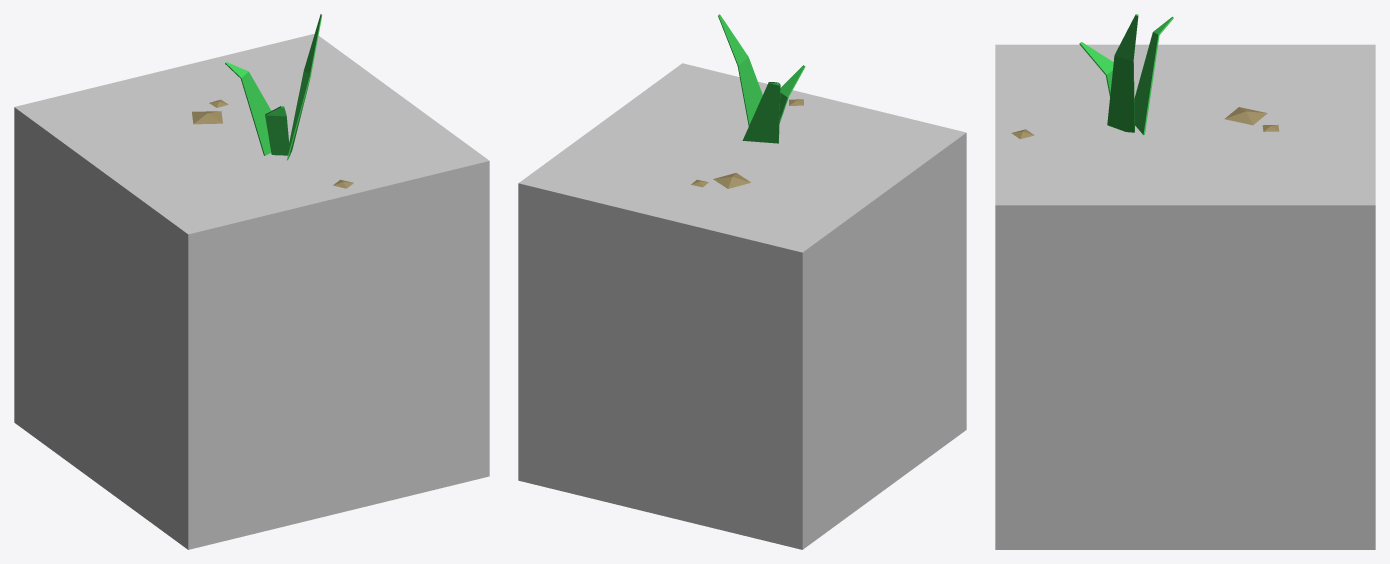
Rendered from grassAccent02.fbx.
3 renders of one model, left to right at view 1: azimuth 30°, elevation 25°; view 2: azimuth 150°, elevation 25°; view 3: azimuth 270°, elevation 25°, orthographic. The views are drawn at different scales.
Visible parts, largest first — view 1: Cube, Cube.001; view 2: Cube, Cube.001; view 3: Cube, Cube.001.
Boxes of the visible parts, x1,y1,x2,y2 form: Cube: [14, 33, 489, 549]; Cube.001: [192, 14, 353, 188]; Cube: [518, 63, 966, 549]; Cube.001: [691, 14, 805, 188]; Cube: [995, 44, 1375, 549]; Cube.001: [1011, 14, 1279, 139].
Bounding box in the file's own units: 200 × 279 × 200.
